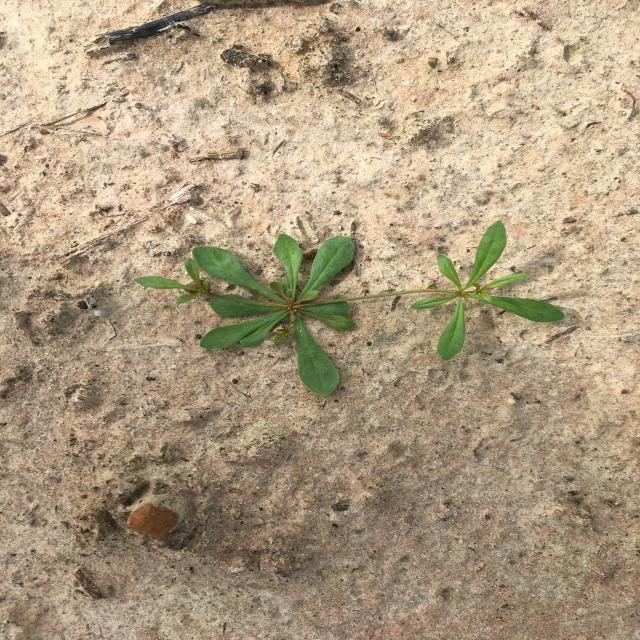Carpetweed: (134, 220, 565, 396)
